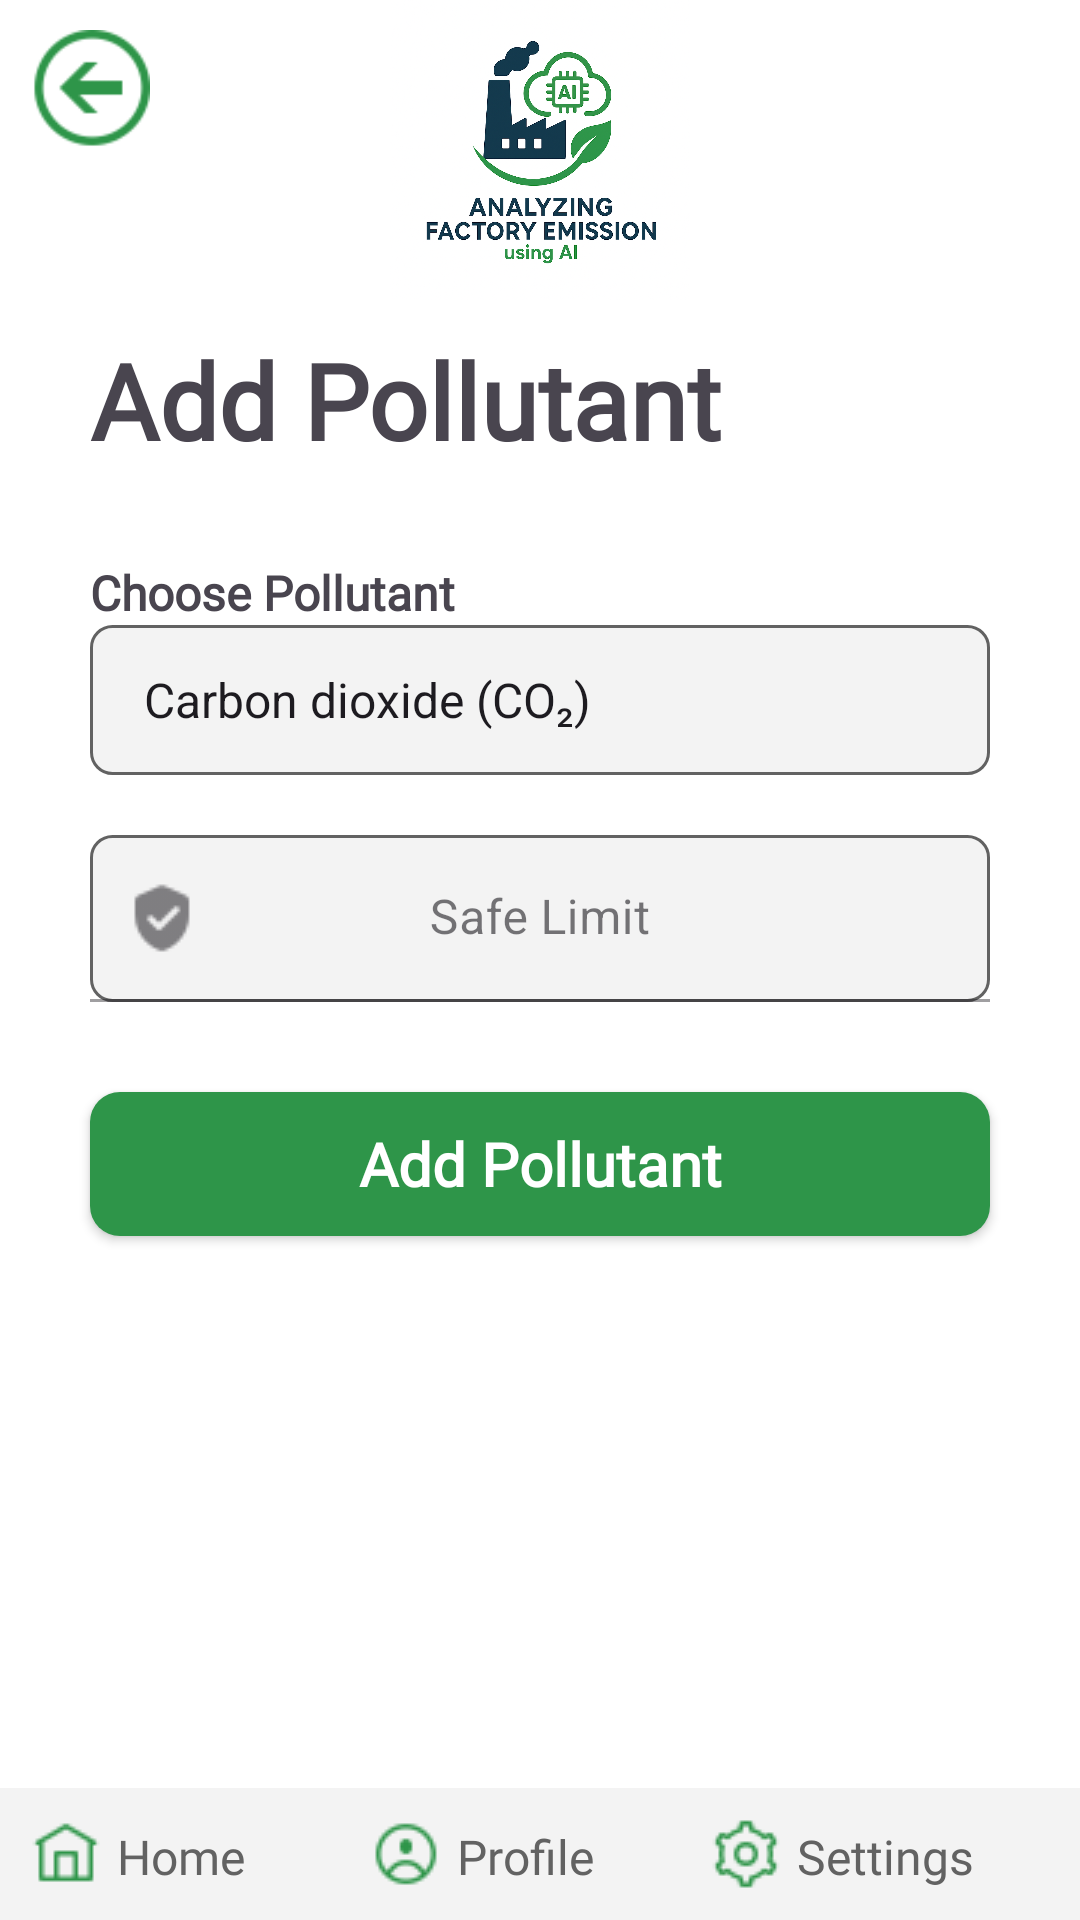

Screen size 1080 x 1920. Icon name, then its center in pixels as (x,y):
back: (92,88)
